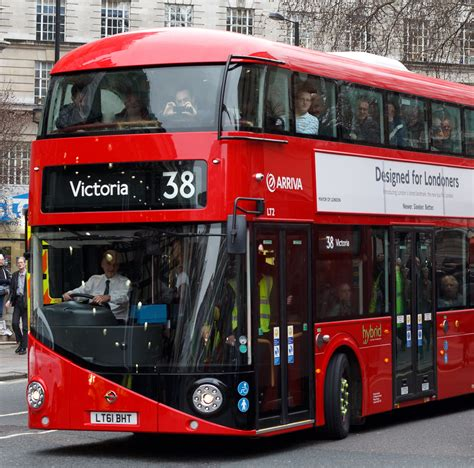bus: (25, 39, 474, 438)
person: (63, 249, 132, 314), (287, 94, 316, 134)
